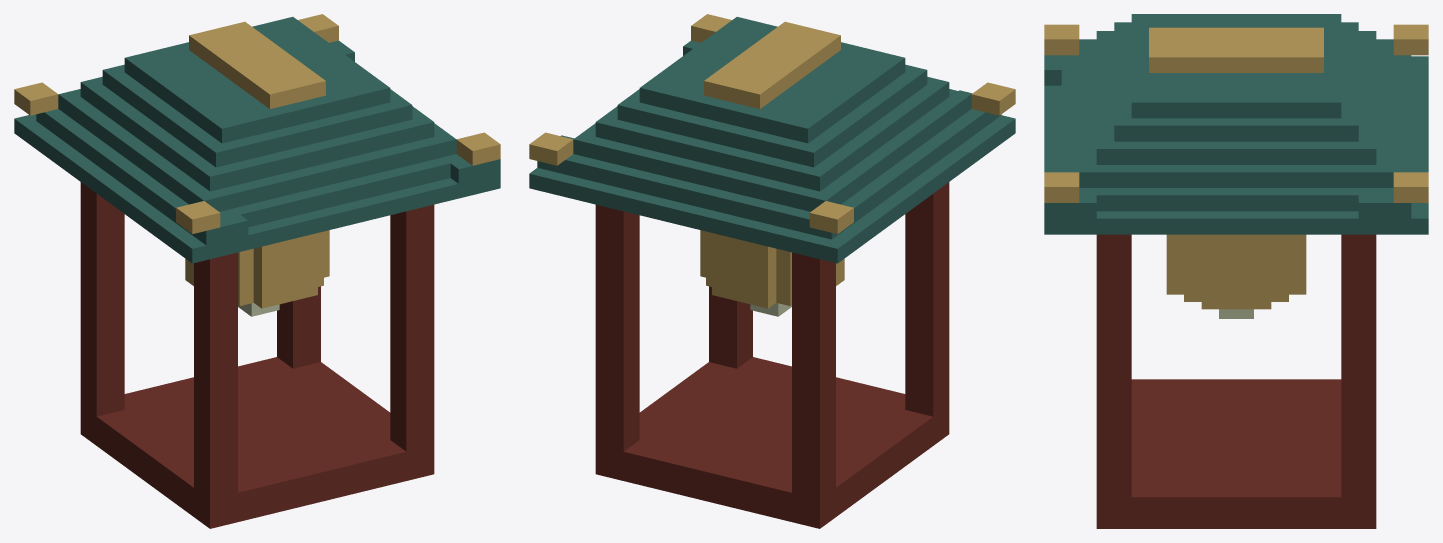
The model's file is landmark.glb.
3 renders of one model, left to right at view 1: azimuth 30°, elevation 25°; view 2: azimuth 150°, elevation 25°; view 3: azimuth 270°, elevation 25°, orthographic. The views are drawn at different scales.
Parts seen in each view (by area): view 1: Shell; view 2: Shell; view 3: Shell.
Part boxes in pixels (<box>): Shell: <box>14,14,500,528</box>; Shell: <box>529,14,1015,528</box>; Shell: <box>1044,14,1428,528</box>.
Size of the model in its own units: 2.75 by 3.38 by 2.75.
